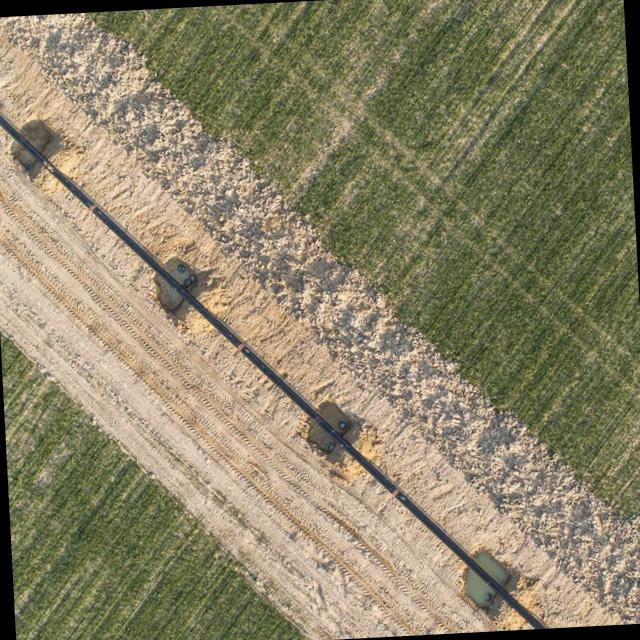gas: (0, 105, 551, 629)
